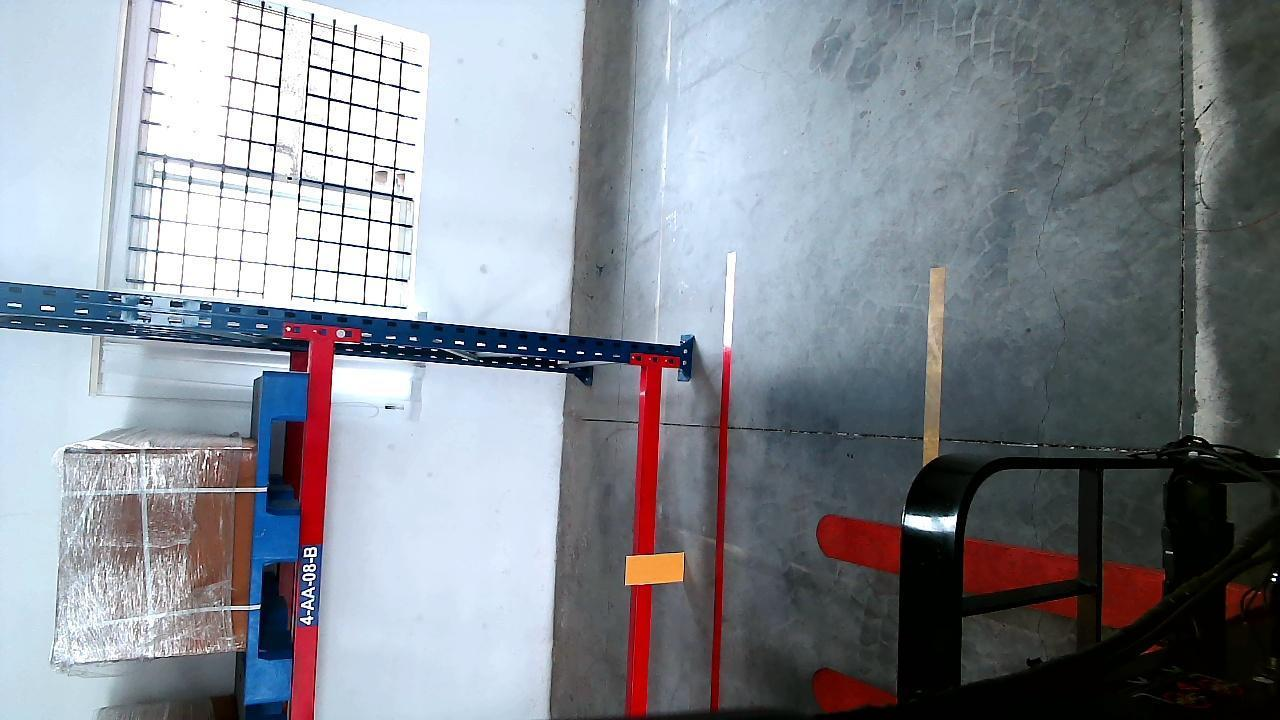h_rack: (294, 340, 337, 716), (631, 370, 665, 687)
orange_strip: (629, 553, 684, 584)
red_line: (710, 252, 734, 720)
small_pallet: (244, 371, 306, 707)
yellow_line: (923, 263, 943, 465)
